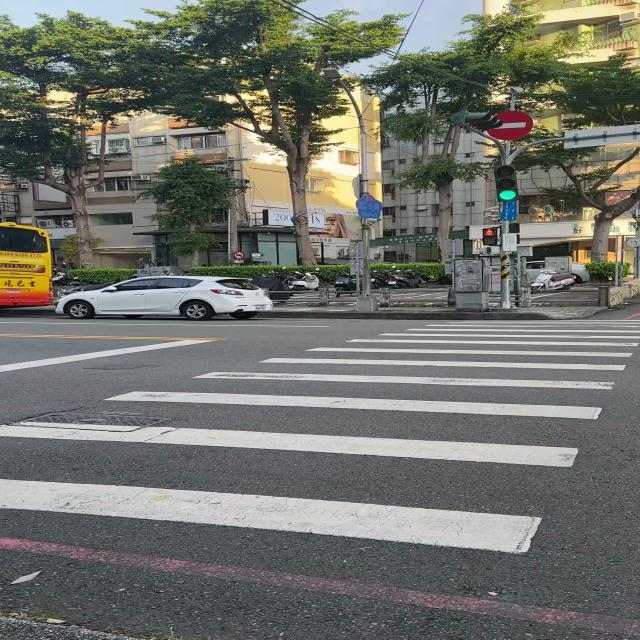bus: (0, 222, 53, 307)
car: (55, 276, 274, 320)
crosswalk: (0, 319, 640, 556)
